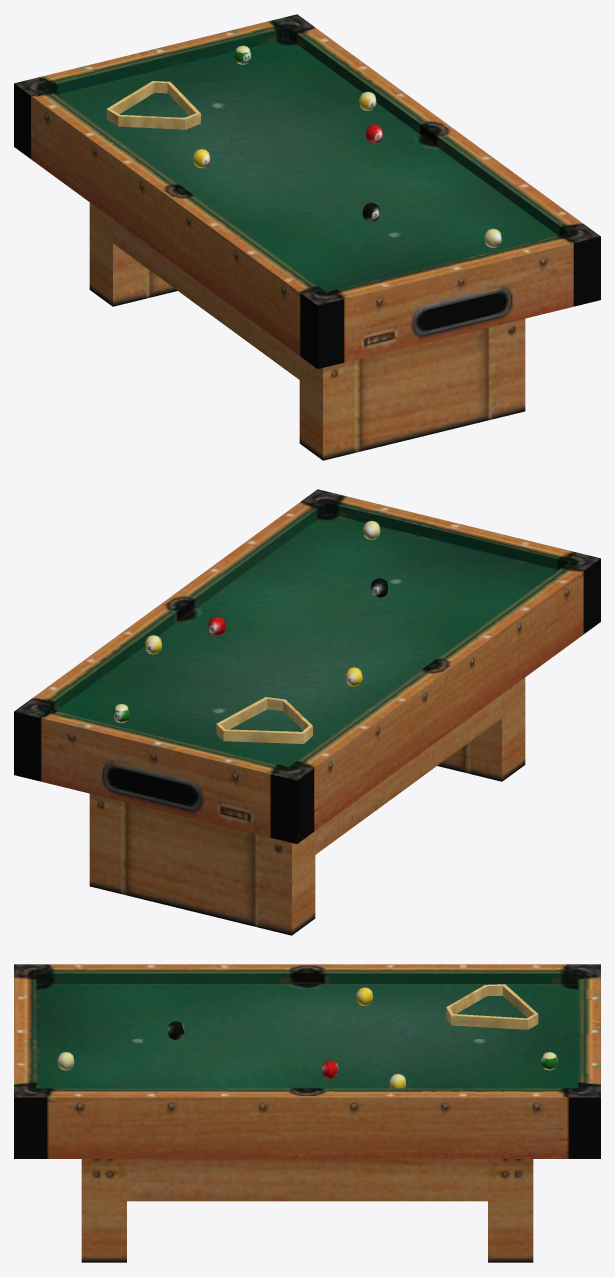
The model's file is pooltable7.fbx.
3 views of the same model, one above another, from view 1: azimuth 30°, elevation 25°; view 2: azimuth 150°, elevation 25°; view 3: azimuth 270°, elevation 25° (orthographic). The views are drawn at different scales.
Visible parts, largest first — view 1: mesh_0; view 2: mesh_0; view 3: mesh_0.
Boxes of the visible parts, x1,y1,x2,y2 form: mesh_0: (14,14,600,460); mesh_0: (14,489,600,935); mesh_0: (14,964,600,1262).
Size of the model in its own units: 140 by 93.37 by 260.
Materials: 1 (1 with a texture image).
